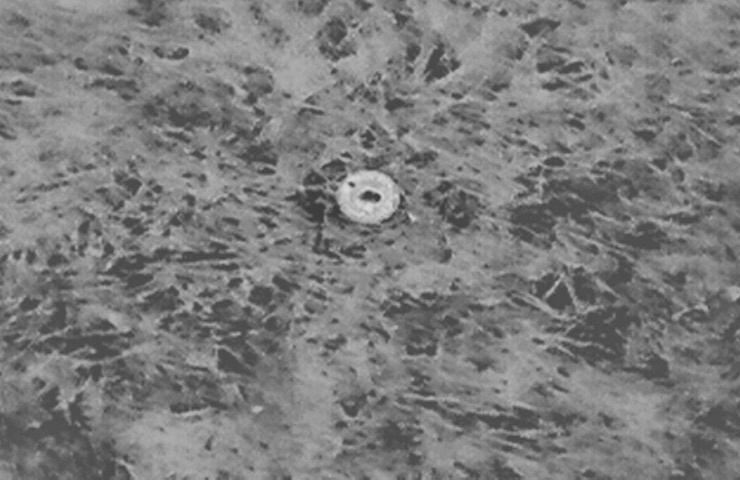landmines: (335, 164, 409, 230)
